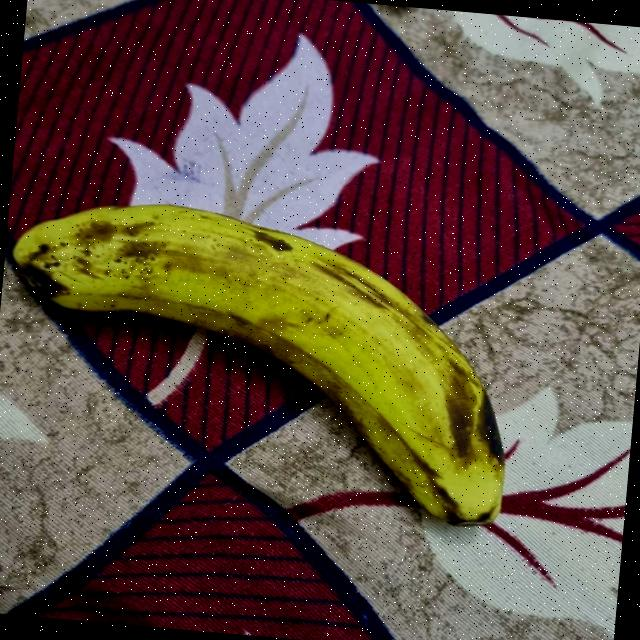Overripe: (0, 173, 547, 542)
